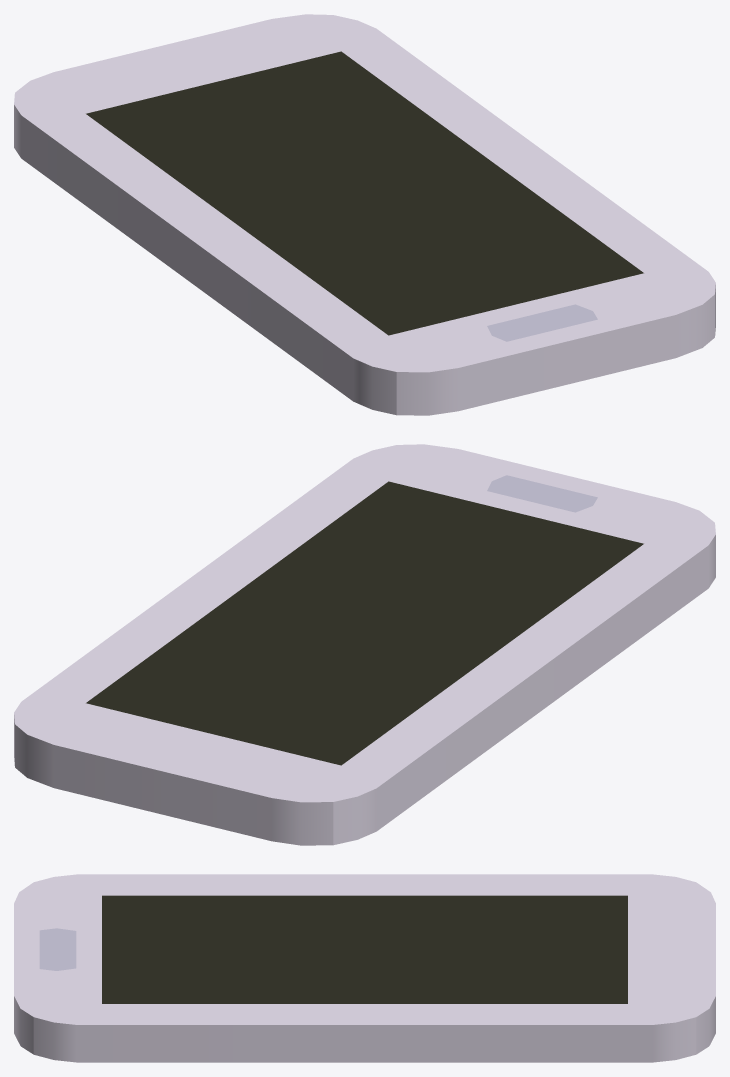
The model's file is smartphone.fbx.
3 views of the same model, one above another, from view 1: azimuth 30°, elevation 25°; view 2: azimuth 150°, elevation 25°; view 3: azimuth 270°, elevation 25° (orthographic). The views are drawn at different scales.
Visible parts, largest first — view 1: pCube1; view 2: pCube1; view 3: pCube1.
Part boxes in pixels (x1=…): pCube1: x1=14, y1=14, x2=715, y2=415; pCube1: x1=14, y1=444, x2=715, y2=845; pCube1: x1=14, y1=874, x2=715, y2=1062.
Size of the model in its own units: 1 by 0.1164 by 1.97.
